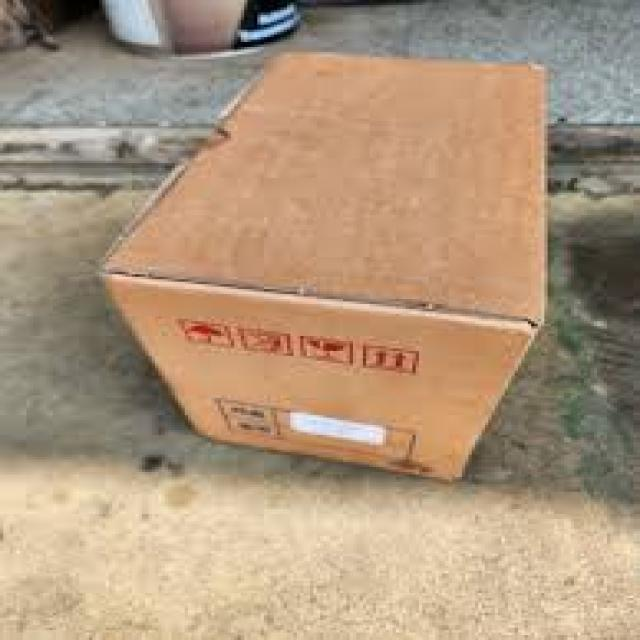box: (24, 86, 615, 557)
normal_hole: (406, 233, 498, 281)
